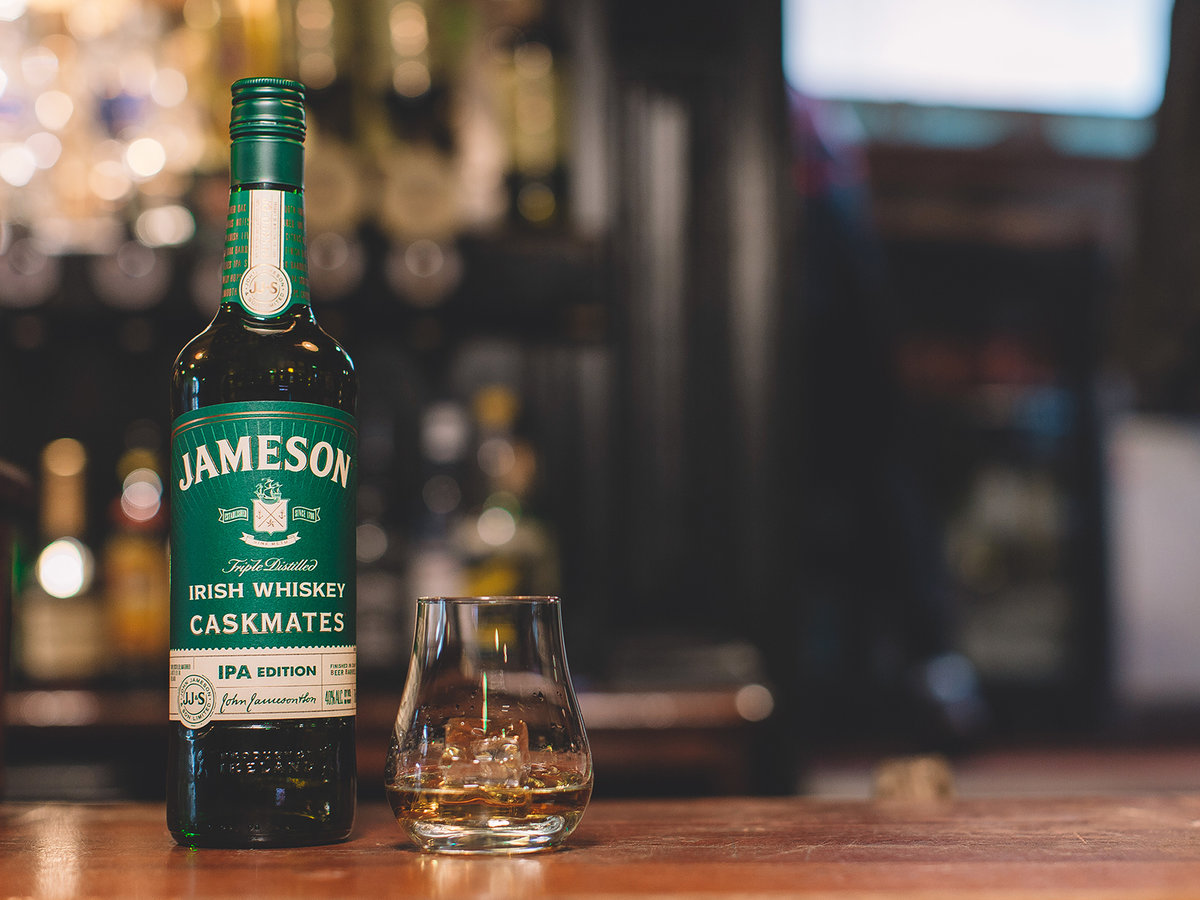Jameson: (150, 71, 374, 854)
